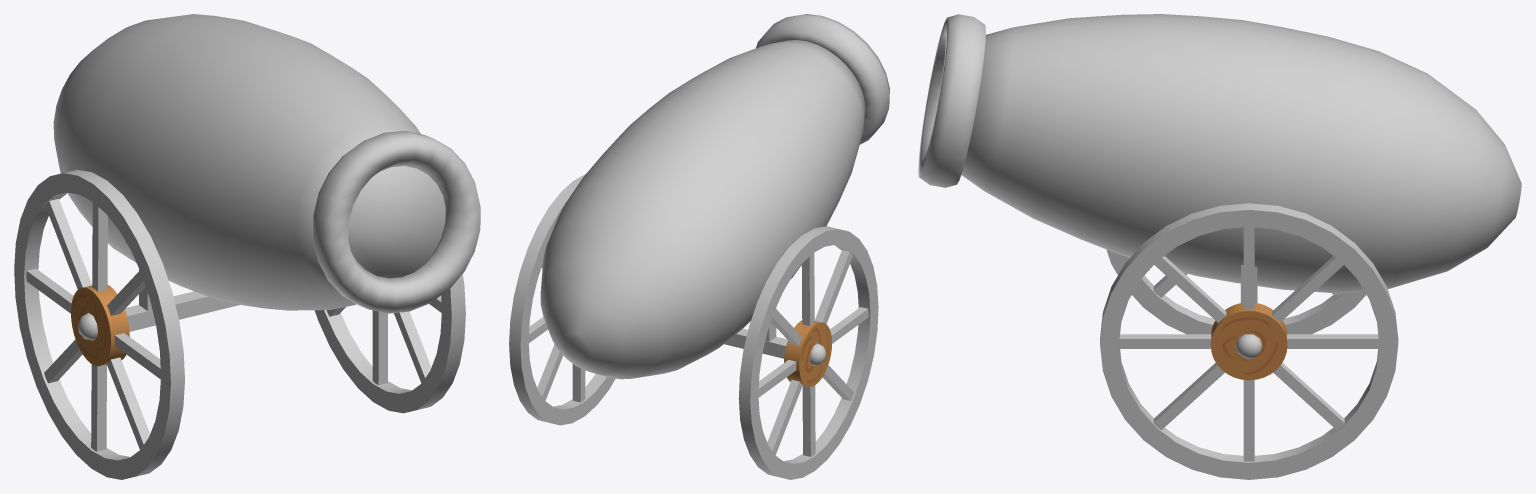
File: Cannon.fbx
The picture shows the model from 3 angles, left to right: view 1: azimuth 30°, elevation 25°; view 2: azimuth 150°, elevation 25°; view 3: azimuth 270°, elevation 25°; orthographic projection. The views are drawn at different scales.
Parts seen in each view (by area): view 1: Cylinder.008, Cylinder.004, Cylinder.001, Cylinder.006, Cylinder.005; view 2: Cylinder.008, Cylinder.004, Cylinder.001, Cylinder.006, Cylinder.005; view 3: Cylinder.008, Cylinder.004, Cylinder.001, Cylinder.006.
Part boxes in pixels (left/top/right/bottom): Cylinder.008: left=53, top=14, right=480, bottom=313; Cylinder.004: left=14, top=169, right=465, bottom=479; Cylinder.001: left=26, top=198, right=441, bottom=451; Cylinder.006: left=71, top=285, right=129, bottom=366; Cylinder.005: left=125, top=291, right=240, bottom=331; Cylinder.008: left=540, top=14, right=889, bottom=379; Cylinder.004: left=509, top=174, right=878, bottom=479; Cylinder.001: left=528, top=250, right=868, bottom=456; Cylinder.006: left=784, top=320, right=832, bottom=386; Cylinder.005: left=724, top=328, right=787, bottom=358; Cylinder.008: left=918, top=14, right=1521, bottom=293; Cylinder.004: left=1100, top=203, right=1398, bottom=479; Cylinder.001: left=1119, top=227, right=1379, bottom=461; Cylinder.006: left=1210, top=302, right=1287, bottom=380.
Size of the model in its own units: 624 by 760 by 1067.
